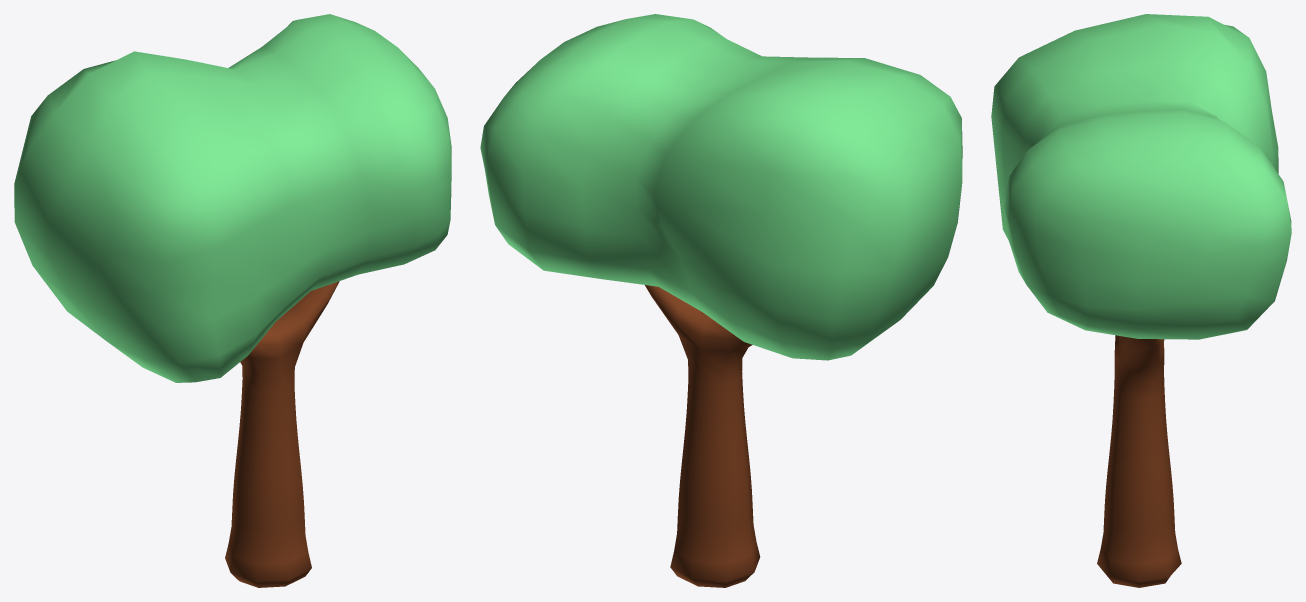
3 views of the same model, side by side, from view 1: azimuth 30°, elevation 25°; view 2: azimuth 150°, elevation 25°; view 3: azimuth 270°, elevation 25° (orthographic). The views are drawn at different scales.
Parts seen in each view (by area): view 1: Leaves.001, Trunk.002; view 2: Leaves.001, Trunk.002; view 3: Leaves.001, Trunk.002.
Boxes of the visible parts, x1,y1,x2,y2 form: Leaves.001: [14, 14, 451, 382]; Trunk.002: [225, 281, 339, 587]; Leaves.001: [480, 14, 962, 360]; Trunk.002: [645, 285, 760, 587]; Leaves.001: [991, 14, 1291, 339]; Trunk.002: [1097, 335, 1181, 587].
Size of the model in its own units: 823 by 1519 by 1198.
